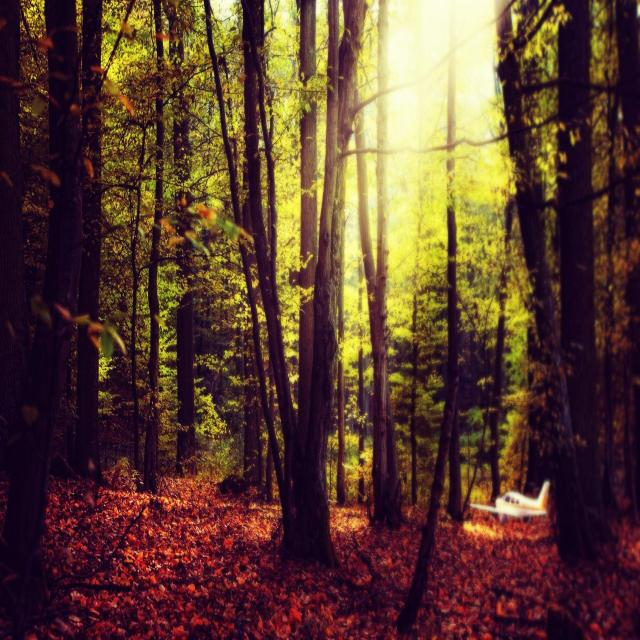airplane: (469, 479, 550, 525)
